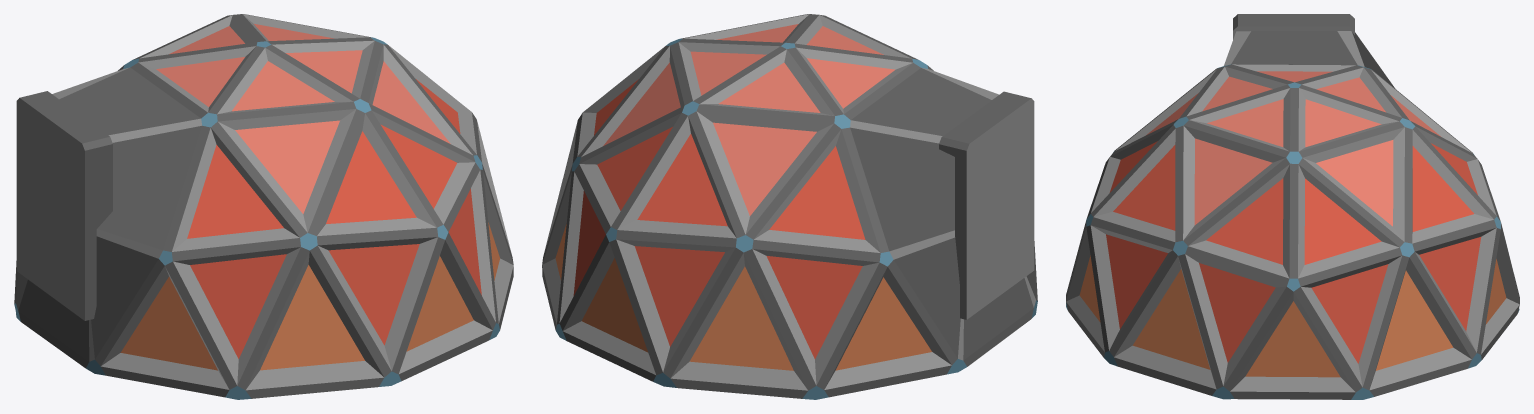
The model's file is Building_Dome.fbx.
3 renders of one model, left to right at view 1: azimuth 30°, elevation 25°; view 2: azimuth 150°, elevation 25°; view 3: azimuth 270°, elevation 25°, orthographic. The views are drawn at different scales.
Visible parts, largest first — view 1: Building_Dome; view 2: Building_Dome; view 3: Building_Dome.
Part boxes in pixels (x1,y1,x2,y2): Building_Dome: (14,14,513,399); Building_Dome: (542,14,1037,399); Building_Dome: (1066,14,1519,399).
Bounding box in the file's own units: 633 × 358 × 656.
